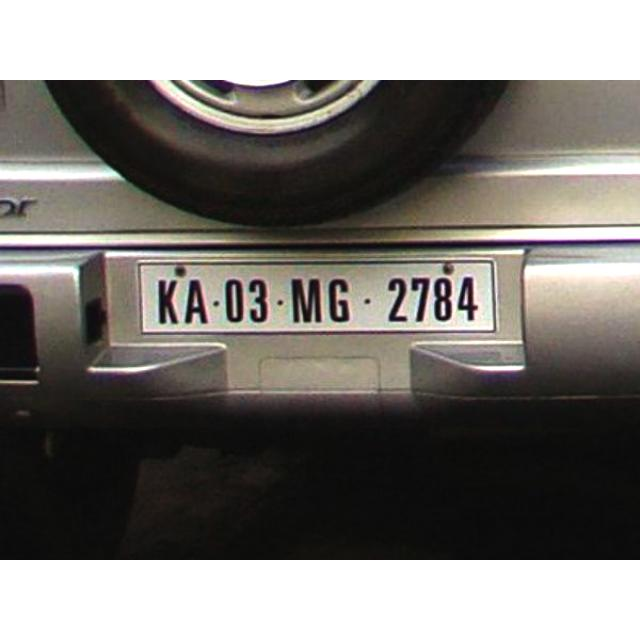plate: (138, 266, 496, 330)
